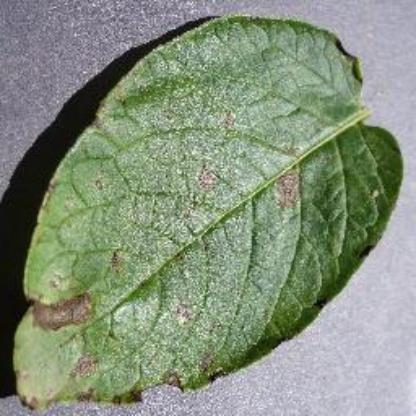Early-Blight: (14, 12, 396, 412)
